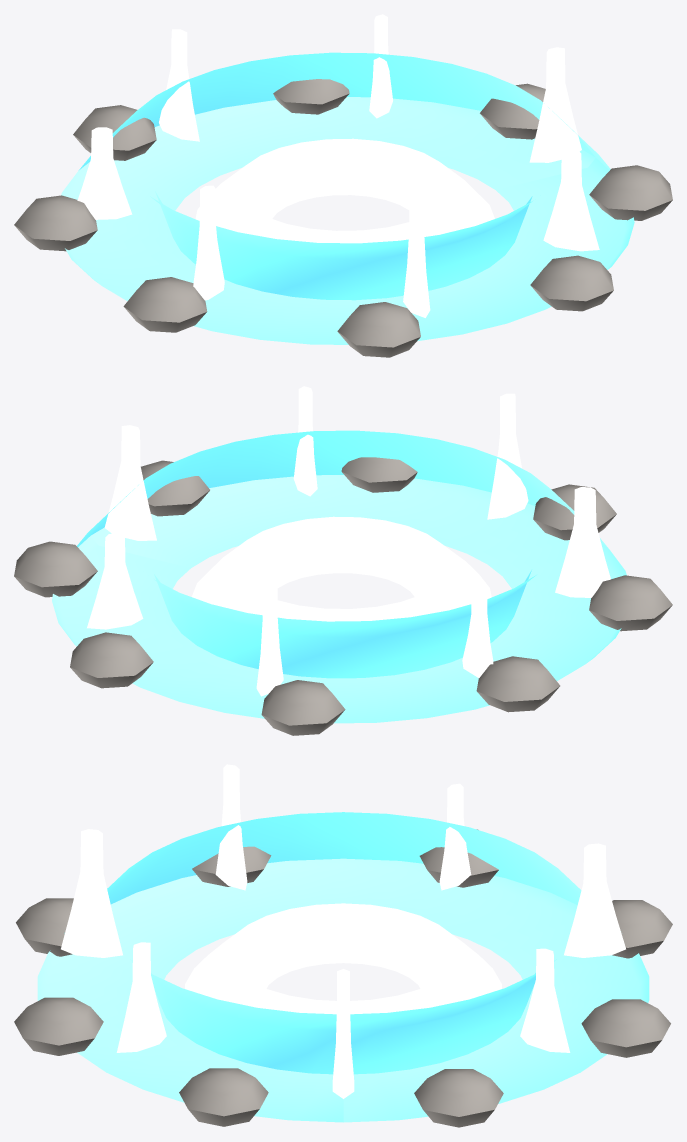
Rendered from vfx-mesh-library-shockwave-ring-small-fc40a3ab.glb.
3 views of the same model, one above another, from view 1: azimuth 30°, elevation 25°; view 2: azimuth 150°, elevation 25°; view 3: azimuth 270°, elevation 25° (orthographic). The views are drawn at different scales.
Visible parts, largest first — view 1: shockwave-ring-small; view 2: shockwave-ring-small; view 3: shockwave-ring-small.
Part boxes in pixels (x1=…): shockwave-ring-small: x1=14, y1=14, x2=672, y2=357; shockwave-ring-small: x1=14, y1=386, x2=672, y2=735; shockwave-ring-small: x1=14, y1=764, x2=672, y2=1127.
Size of the model in its own units: 0.5881 by 0.1421 by 0.5901.
